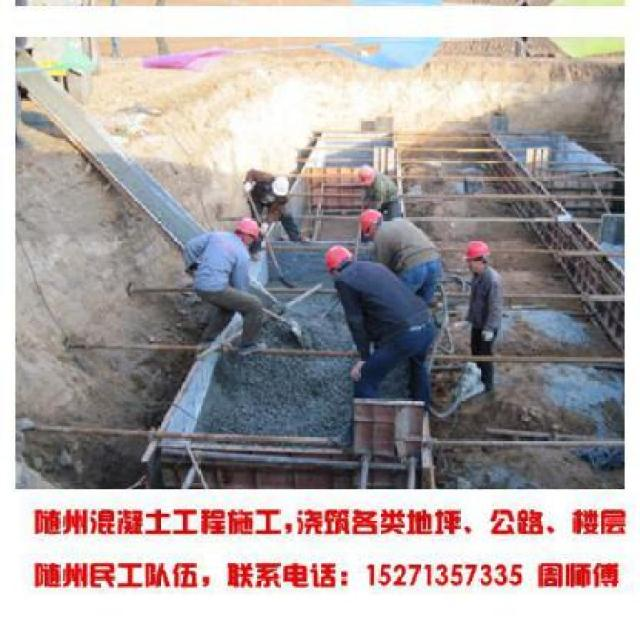helmet: (316, 236, 352, 276), (226, 210, 263, 248), (463, 236, 497, 276), (349, 204, 386, 238), (263, 167, 294, 202), (354, 162, 378, 188)
